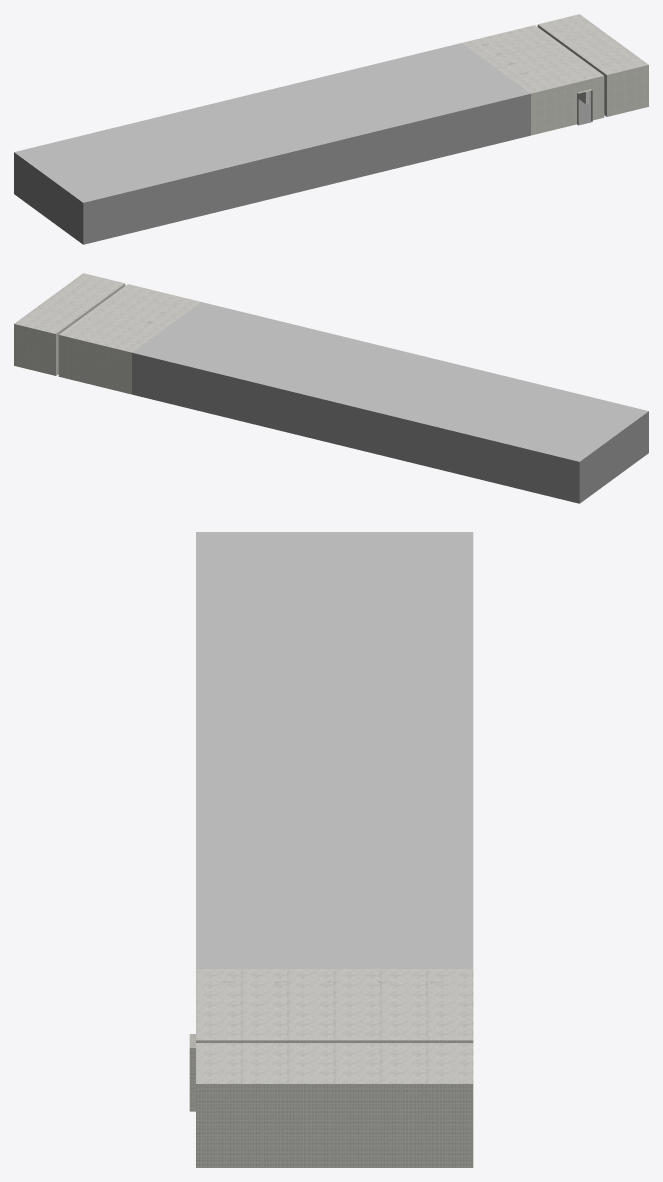
Rendered from ShootingRange03.FBX.
3 views of the same model, one above another, from view 1: azimuth 30°, elevation 25°; view 2: azimuth 150°, elevation 25°; view 3: azimuth 270°, elevation 25° (orthographic). The views are drawn at different scales.
Visible parts, largest first — view 1: Range; view 2: Range; view 3: Range.
Boxes of the visible parts, x1,y1,x2,y2 form: Range: [14, 14, 648, 244]; Range: [14, 273, 648, 503]; Range: [189, 532, 473, 1167].
Bounding box in the file's own units: 1484 × 105 × 323.
